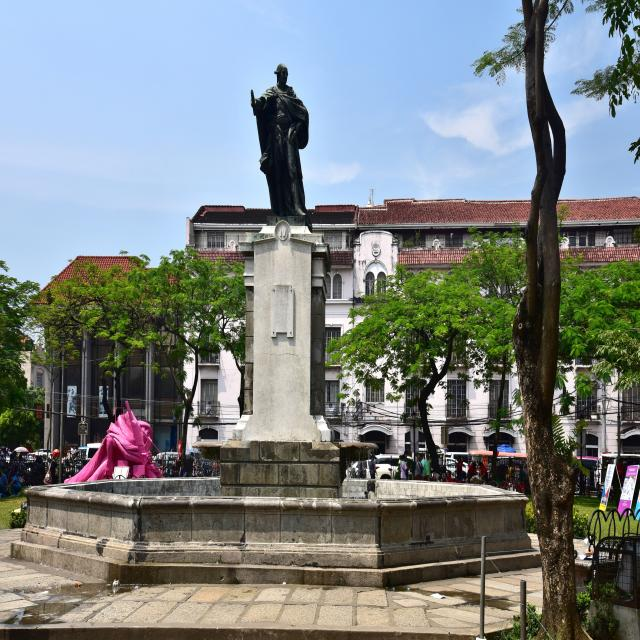King Charles IV Monument: (218, 54, 359, 498)
